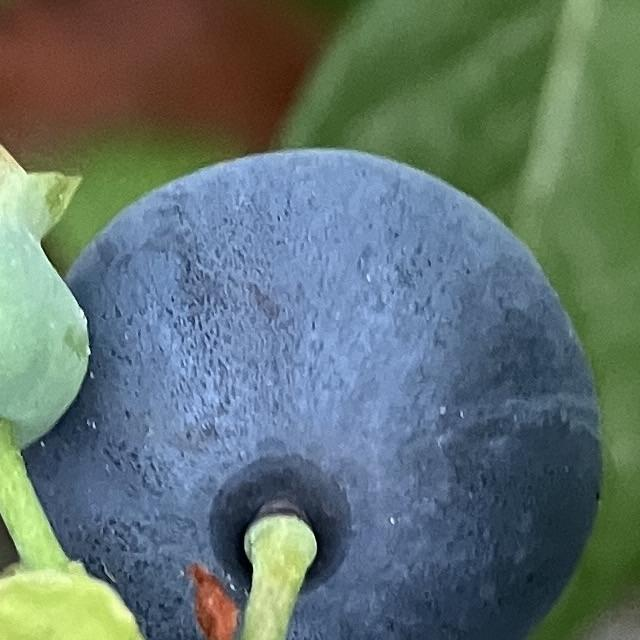Blueberries: (11, 138, 604, 640), (0, 94, 120, 482)
